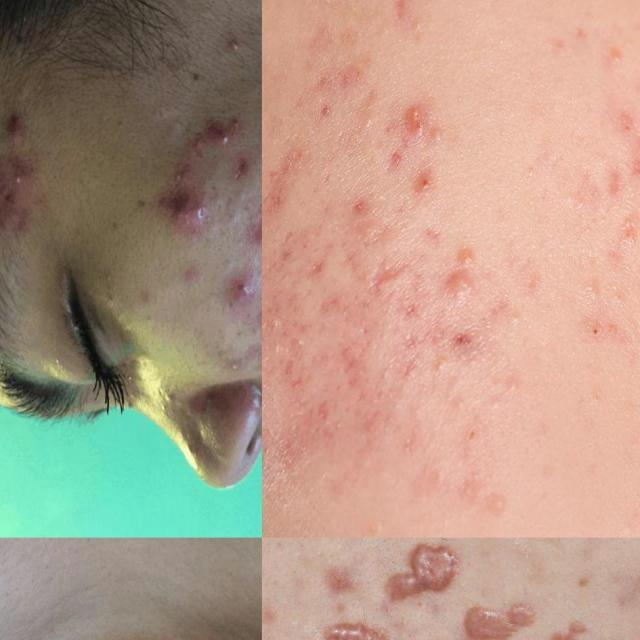Pimples: (381, 541, 459, 605), (188, 376, 258, 428), (155, 182, 213, 238), (462, 598, 537, 640), (360, 250, 414, 297), (194, 100, 244, 150), (319, 617, 427, 640), (94, 251, 126, 324), (397, 84, 432, 146), (438, 234, 482, 275), (217, 28, 252, 62), (222, 268, 258, 300), (4, 106, 29, 150), (156, 376, 182, 418), (234, 178, 252, 208), (253, 212, 262, 246)
